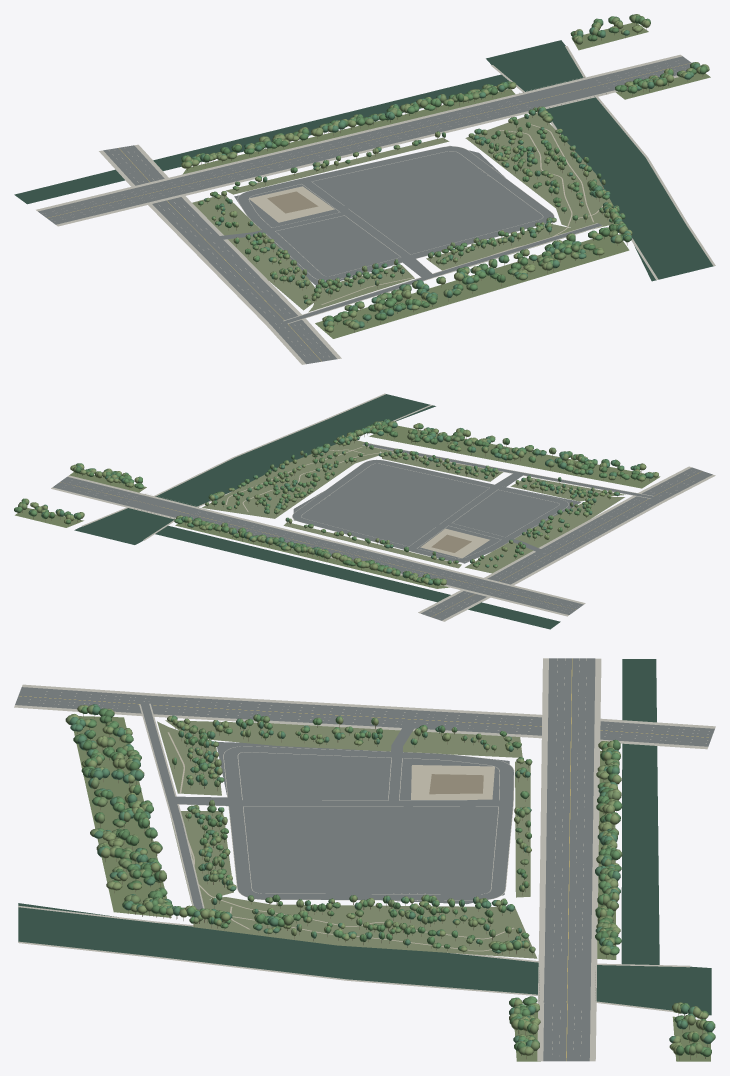
The model's file is ground.glb.
The picture shows the model from 3 angles, top to bottom: view 1: azimuth 30°, elevation 25°; view 2: azimuth 150°, elevation 25°; view 3: azimuth 270°, elevation 25°; orthographic projection. The views are drawn at different scales.
Visible parts, largest first — view 1: Weathered asphalt geometry, Nanguan River geometry, Campus grass geometry, Concrete curb geometry, Canal banks geometry, Merged Foliage 1, Merged Foliage 4, Merged Foliage 0, Merged Foliage 2, Merged Foliage 3, Warm stone paths geometry, Northwest yard interior (+1 smaller); view 2: Weathered asphalt geometry, Nanguan River geometry, Campus grass geometry, Concrete curb geometry, Canal banks geometry, Merged Foliage 4, Merged Foliage 1, Merged Foliage 0, Merged Foliage 2, Merged Foliage 3, Warm stone paths geometry, Northwest yard interior (+1 smaller); view 3: Weathered asphalt geometry, Nanguan River geometry, Campus grass geometry, Concrete curb geometry, Merged Foliage 4, Merged Foliage 1, Merged Foliage 2, Merged Foliage 0, Merged Foliage 3, Canal banks geometry, Warm stone paths geometry, Northwest yard interior (+2 smaller).
Part boxes in pixels (x1,y1,x2,y2): Weathered asphalt geometry: [38, 56, 691, 363]; Nanguan River geometry: [14, 40, 713, 281]; Campus grass geometry: [192, 112, 613, 312]; Concrete curb geometry: [36, 46, 715, 364]; Canal banks geometry: [182, 23, 710, 338]; Merged Foliage 1: [181, 16, 706, 329]; Merged Foliage 4: [181, 20, 708, 332]; Merged Foliage 0: [185, 14, 707, 325]; Merged Foliage 2: [197, 14, 709, 329]; Merged Foliage 3: [191, 16, 700, 327]; Warm stone paths geometry: [249, 124, 602, 304]; Northwest yard interior: [267, 191, 318, 213]; Weathered asphalt geometry: [53, 443, 712, 620]; Nanguan River geometry: [74, 394, 560, 629]; Campus grass geometry: [202, 440, 625, 573]; Concrete curb geometry: [51, 393, 715, 621]; Canal banks geometry: [15, 425, 660, 588]; Merged Foliage 4: [26, 421, 658, 585]; Merged Foliage 1: [17, 422, 654, 585]; Merged Foliage 0: [14, 419, 641, 585]; Merged Foliage 2: [18, 421, 652, 583]; Merged Foliage 3: [28, 419, 653, 584]; Warm stone paths geometry: [226, 447, 608, 558]; Northwest yard interior: [431, 534, 471, 552]; Weathered asphalt geometry: [15, 658, 714, 1061]; Nanguan River geometry: [18, 659, 711, 1015]; Campus grass geometry: [157, 720, 537, 958]; Concrete curb geometry: [14, 658, 715, 1061]; Merged Foliage 4: [70, 705, 708, 1055]; Merged Foliage 1: [75, 706, 715, 1054]; Merged Foliage 2: [65, 705, 707, 1055]; Merged Foliage 0: [73, 710, 711, 1056]; Merged Foliage 3: [69, 704, 713, 1046]; Canal banks geometry: [73, 716, 710, 1061]; Warm stone paths geometry: [167, 732, 514, 951]; Northwest yard interior: [429, 774, 483, 794].
Bounding box in the file's own units: 557 × 11.01 × 408.
